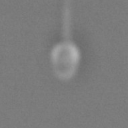normal: (56, 1, 74, 42)
